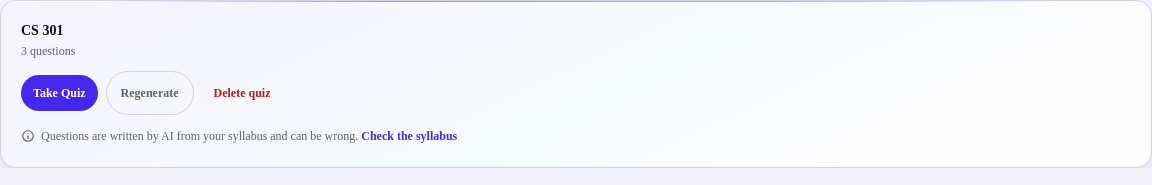
Test: QuizCard with a quiz › replaces the old quiz when regenerated
Click the button "Regenerate" at (150, 93), box 106,71 -> 194,115
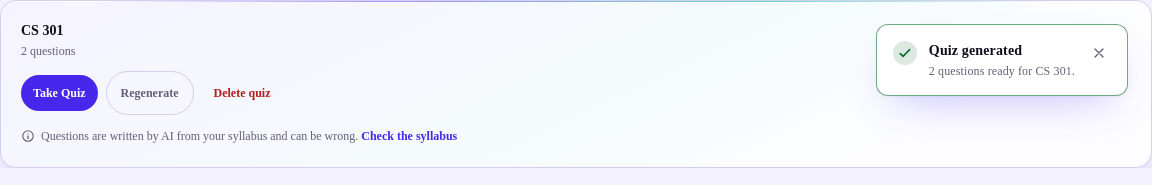
Expected: the text "2 questions" is shown, 21,43 -> 75,59
Expected: the text "3 questions" is gone
